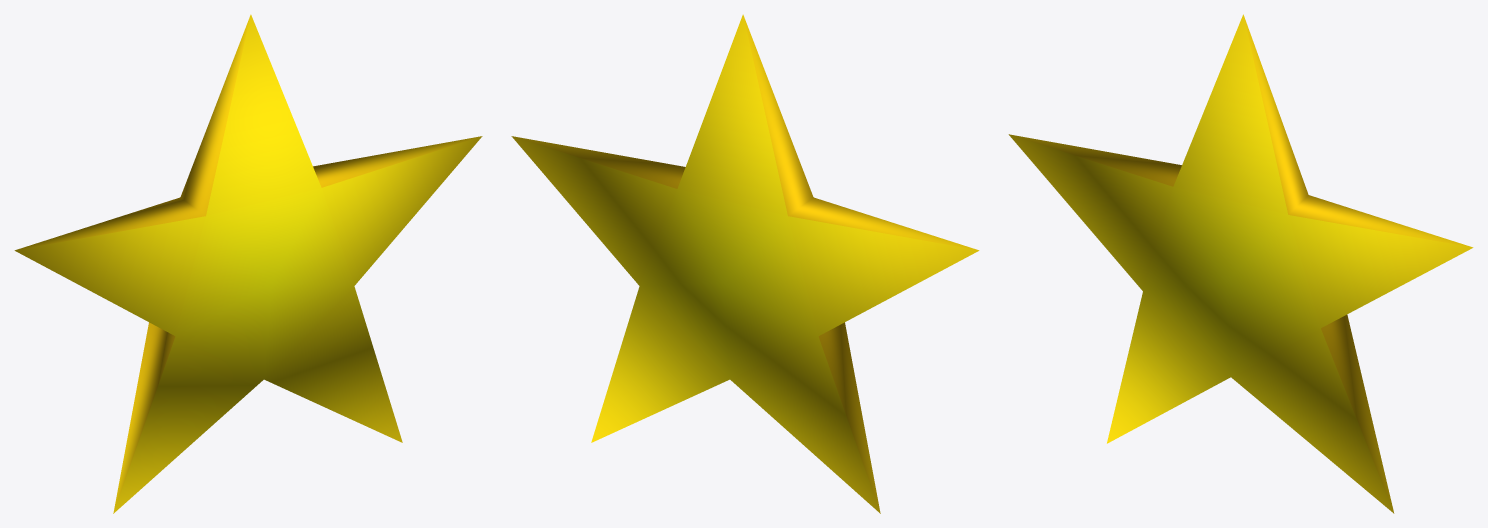
The model's file is little_star.FBX.
3 renders of one model, left to right at view 1: azimuth 30°, elevation 25°; view 2: azimuth 150°, elevation 25°; view 3: azimuth 330°, elevation 25°, orthographic.
Parts seen in each view (by area): view 1: Cylinder001; view 2: Cylinder001; view 3: Cylinder001.
Boxes of the visible parts, left/top/right/bottom form: Cylinder001: left=14, top=14, right=482, bottom=513; Cylinder001: left=511, top=14, right=979, bottom=513; Cylinder001: left=1008, top=14, right=1473, bottom=513.
Size of the model in its own units: 34.65 by 32.96 by 4.91.
1 material, 1 textured.
